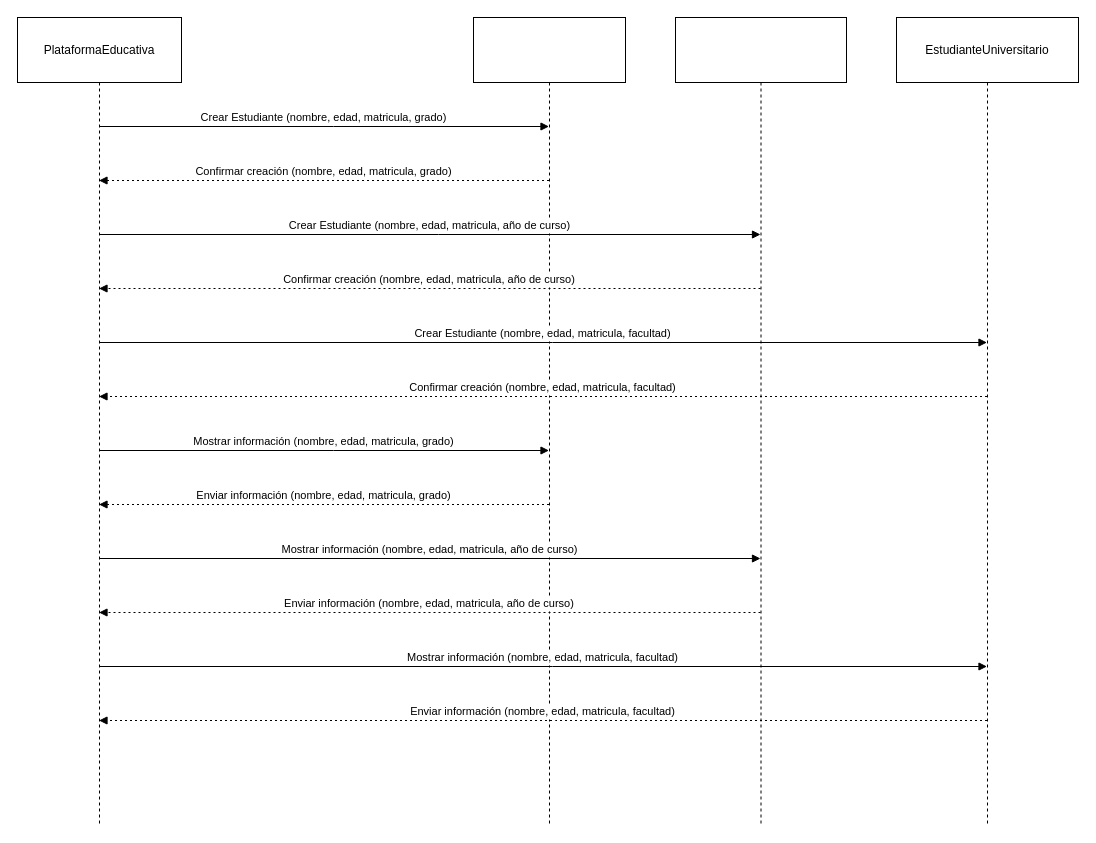
Some shapes in this 1096 by 843 pixel diagram are drawn without their labels. The box of each missing label's shape, as (x1, y1, x2, y2) in pixels:
EstudiantePrimaria: (472, 16, 626, 826)
EstudianteSecundaria: (674, 16, 846, 826)
